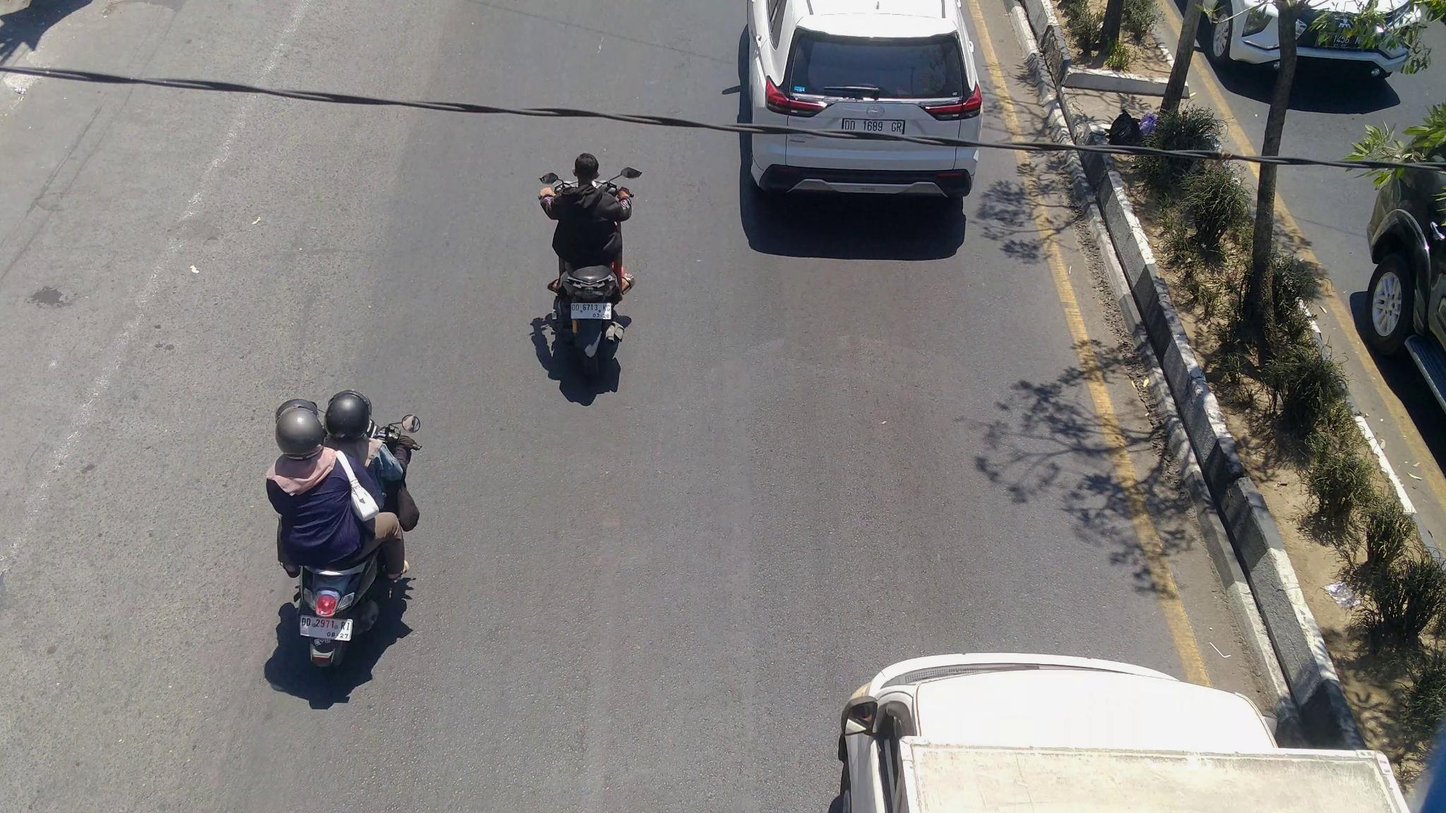Helmet: (271, 394, 327, 460), (323, 386, 376, 440)
bike: (266, 410, 424, 669), (525, 165, 647, 374)
no-helmet: (566, 150, 608, 190)
number-plate: (299, 615, 354, 642), (569, 301, 614, 322)
rider: (265, 396, 412, 582), (535, 149, 641, 297), (317, 389, 416, 503)
